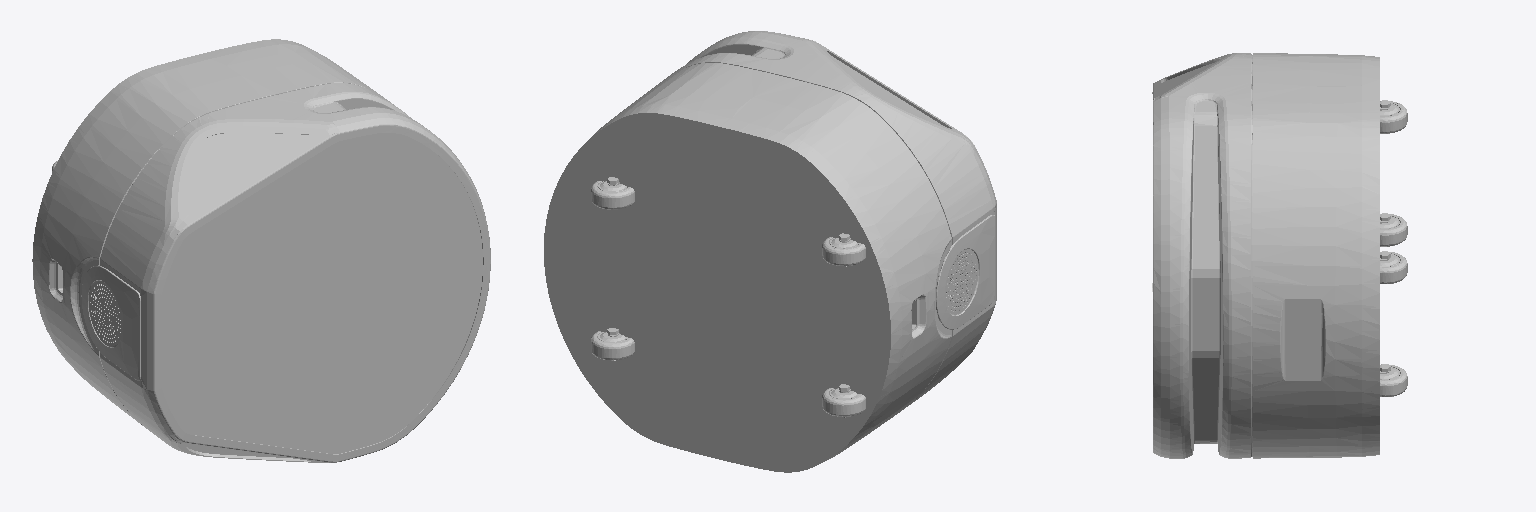
3 views of the same model, side by side, from view 1: azimuth 30°, elevation 25°; view 2: azimuth 150°, elevation 25°; view 3: azimuth 270°, elevation 25° (orthographic).
Visible parts, largest first — view 1: base_link; view 2: base_link; view 3: base_link.
Boxes of the visible parts, x1=… form: base_link: x1=32, y1=39, x2=490, y2=462; base_link: x1=544, y1=31, x2=996, y2=472; base_link: x1=1152, y1=53, x2=1407, y2=458.
Bounding box in the file's own units: 0.5733 × 0.5283 × 0.3589.